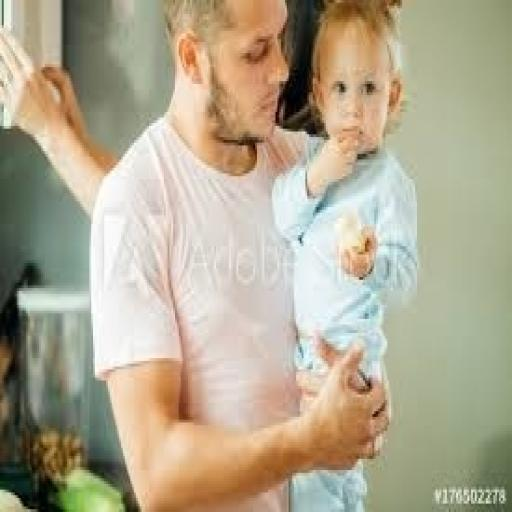hugging: (2, 0, 417, 509), (268, 0, 421, 509)
